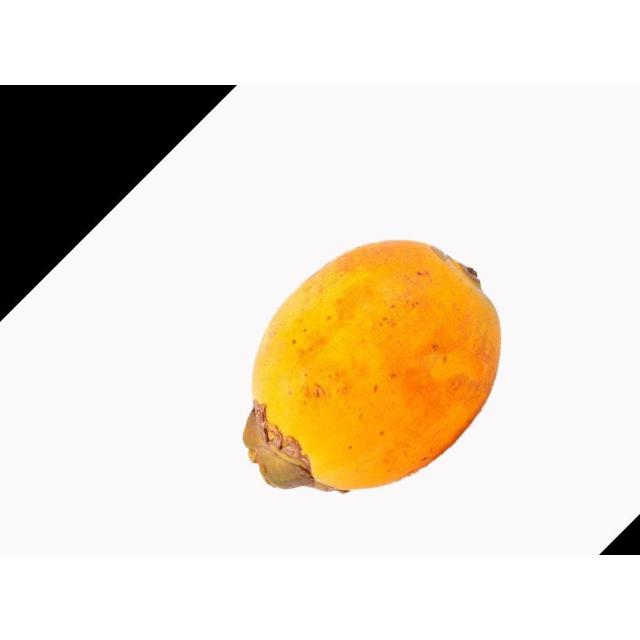good: (241, 240, 502, 495)
